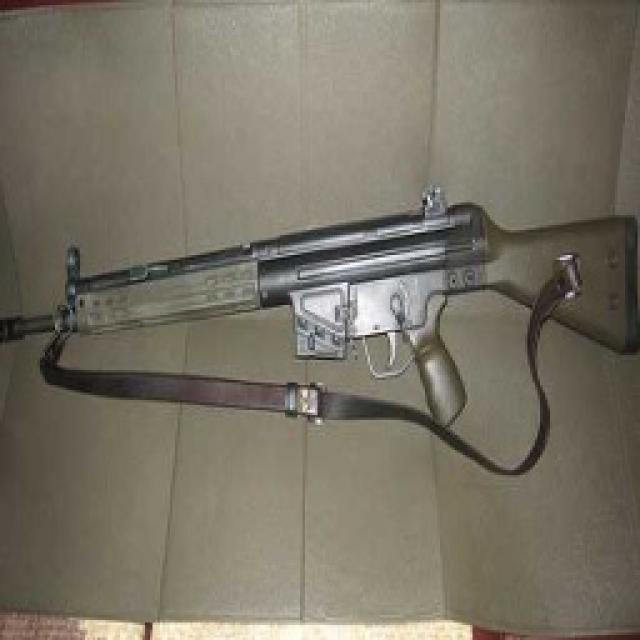long weapon: (6, 146, 627, 417)
